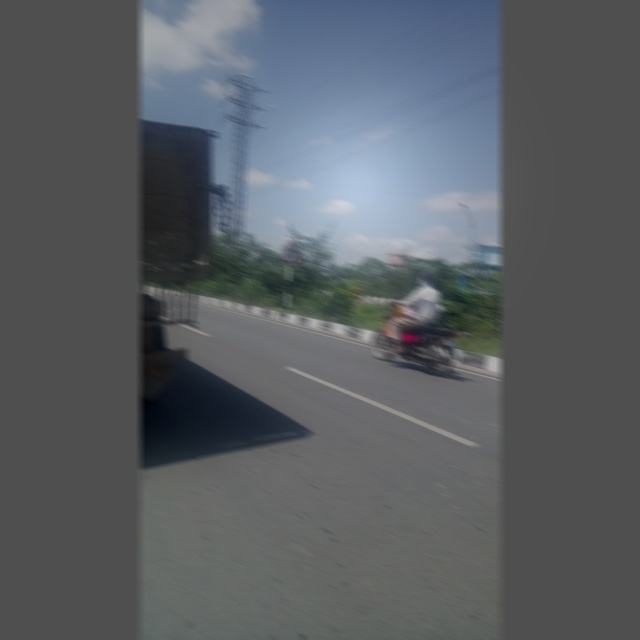U_Turn_Ahead: (276, 236, 307, 269)
